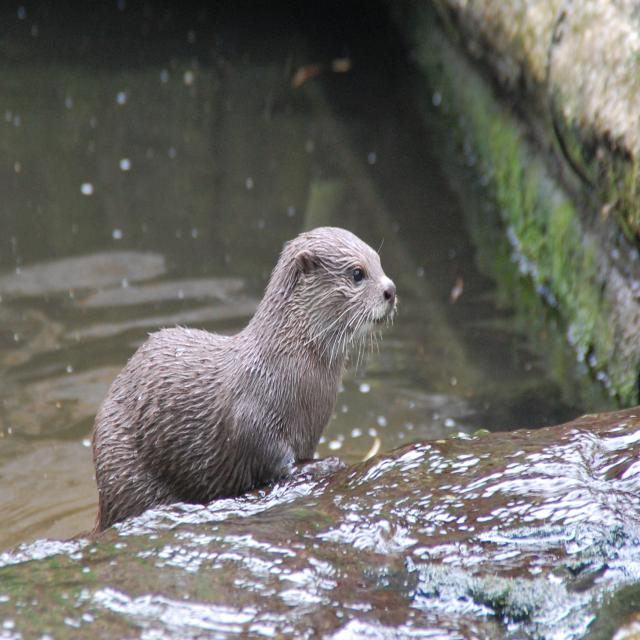otter: (98, 229, 398, 525)
